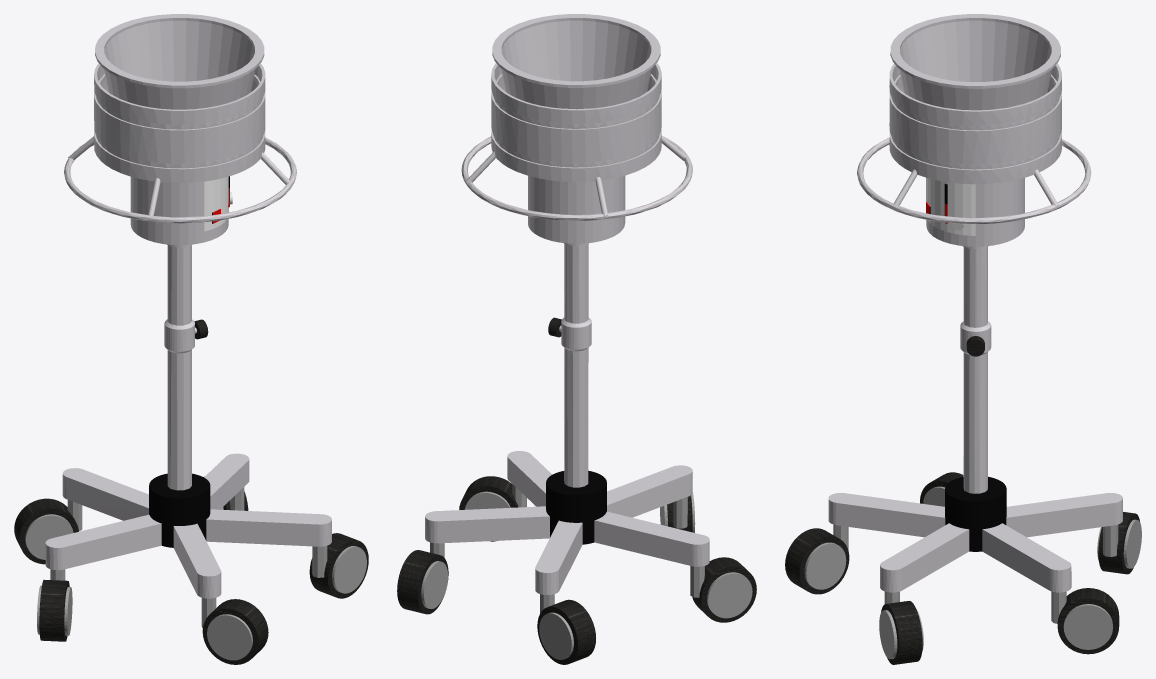
The model's file is Schalenständer heizbar.fbx.
3 renders of one model, left to right at view 1: azimuth 30°, elevation 25°; view 2: azimuth 150°, elevation 25°; view 3: azimuth 270°, elevation 25°, orthographic.
Visible parts, largest first — view 1: Metal - Stainless Steel, Asphalt, Farbe, grau, Farbe, schwarz, Farbe, weiß; view 2: Metal - Stainless Steel, Asphalt, Farbe, grau, Farbe, schwarz; view 3: Metal - Stainless Steel, Asphalt, Farbe, grau, Farbe, schwarz, Farbe, weiß.
Boxes of the visible parts, <box> form: Metal - Stainless Steel: <box>45,14,331,598</box>; Asphalt: <box>14,319,368,664</box>; Farbe, grau: <box>25,487,366,660</box>; Farbe, schwarz: <box>149,176,229,547</box>; Farbe, weiß: <box>204,176,228,231</box>; Metal - Stainless Steel: <box>425,14,709,594</box>; Asphalt: <box>397,317,756,664</box>; Farbe, grau: <box>421,484,752,659</box>; Farbe, schwarz: <box>546,470,606,544</box>; Metal - Stainless Steel: <box>828,14,1122,592</box>; Asphalt: <box>785,336,1139,664</box>; Farbe, grau: <box>804,486,1141,659</box>; Farbe, schwarz: <box>929,184,1006,551</box>; Farbe, weiß: <box>926,177,975,235</box>.
Bounding box in the file's own units: 58.85 × 57.89 × 98.54.
7 materials, 1 textured.
